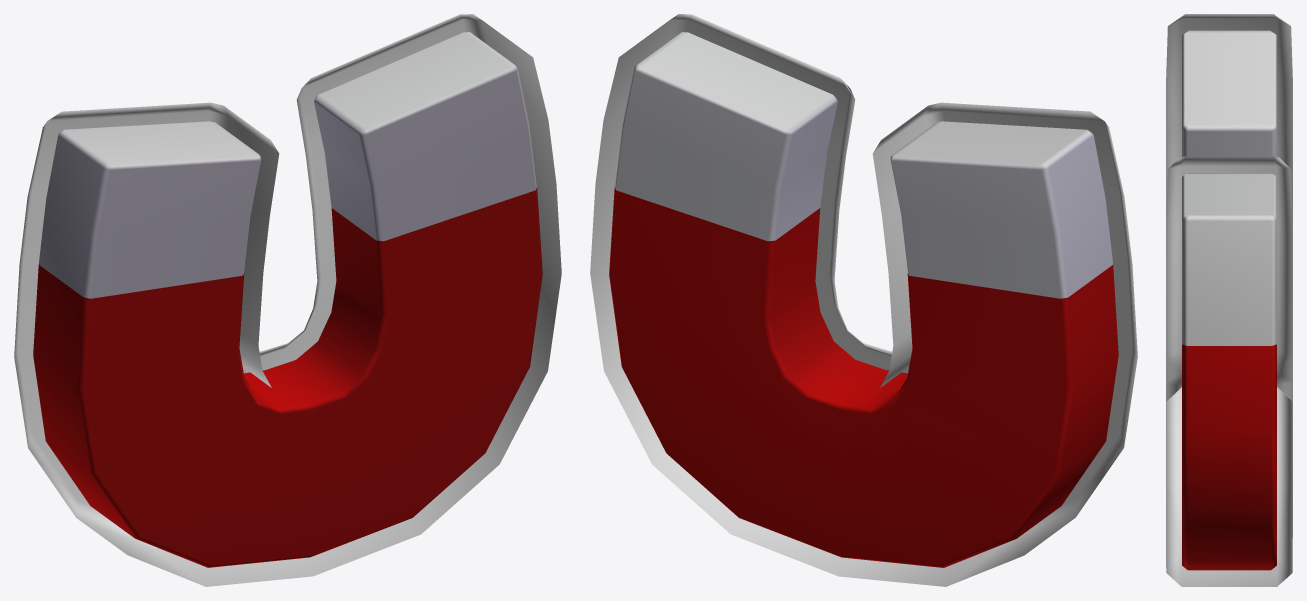
File: pickup_magnet_outline_MESH.glb
3 renders of one model, left to right at view 1: azimuth 30°, elevation 25°; view 2: azimuth 150°, elevation 25°; view 3: azimuth 270°, elevation 25°, orthographic. The views are drawn at different scales.
Parts seen in each view (by area): view 1: magnet_outline; view 2: magnet_outline; view 3: magnet_outline.
Part boxes in pixels (x1=…): magnet_outline: x1=14, y1=14, x2=561, y2=586; magnet_outline: x1=590, y1=14, x2=1137, y2=586; magnet_outline: x1=1166, y1=14, x2=1292, y2=586.
Size of the model in its own units: 0.4741 by 0.4341 by 0.1126.
